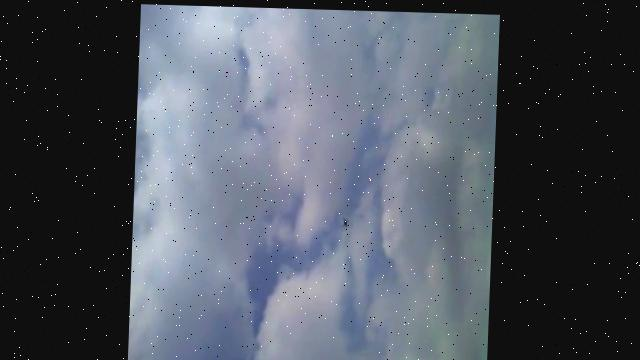drone: (339, 212, 351, 228)
